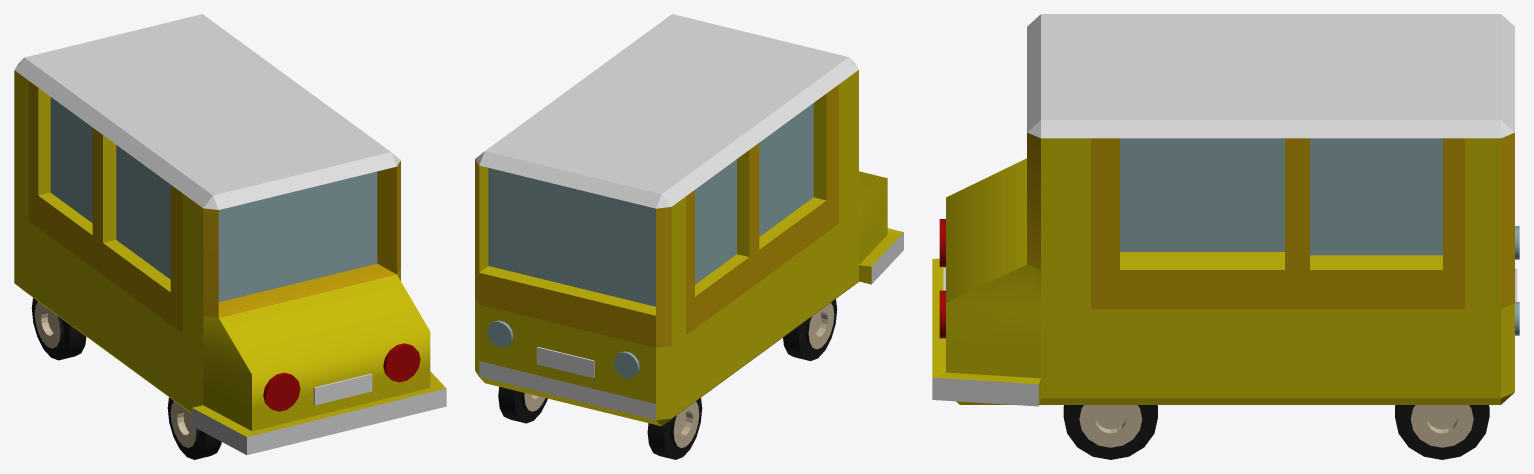
File: Zcar6.fbx
3 views of the same model, side by side, from view 1: azimuth 30°, elevation 25°; view 2: azimuth 150°, elevation 25°; view 3: azimuth 270°, elevation 25° (orthographic). The views are drawn at different scales.
Visible parts, largest first — view 1: car6; view 2: car6; view 3: car6.
Part boxes in pixels (left/top/right/bottom): car6: left=14, top=14, right=446, bottom=459; car6: left=475, top=14, right=903, bottom=459; car6: left=932, top=14, right=1519, bottom=459.
Size of the model in its own units: 4.36 by 5.32 by 8.21.
